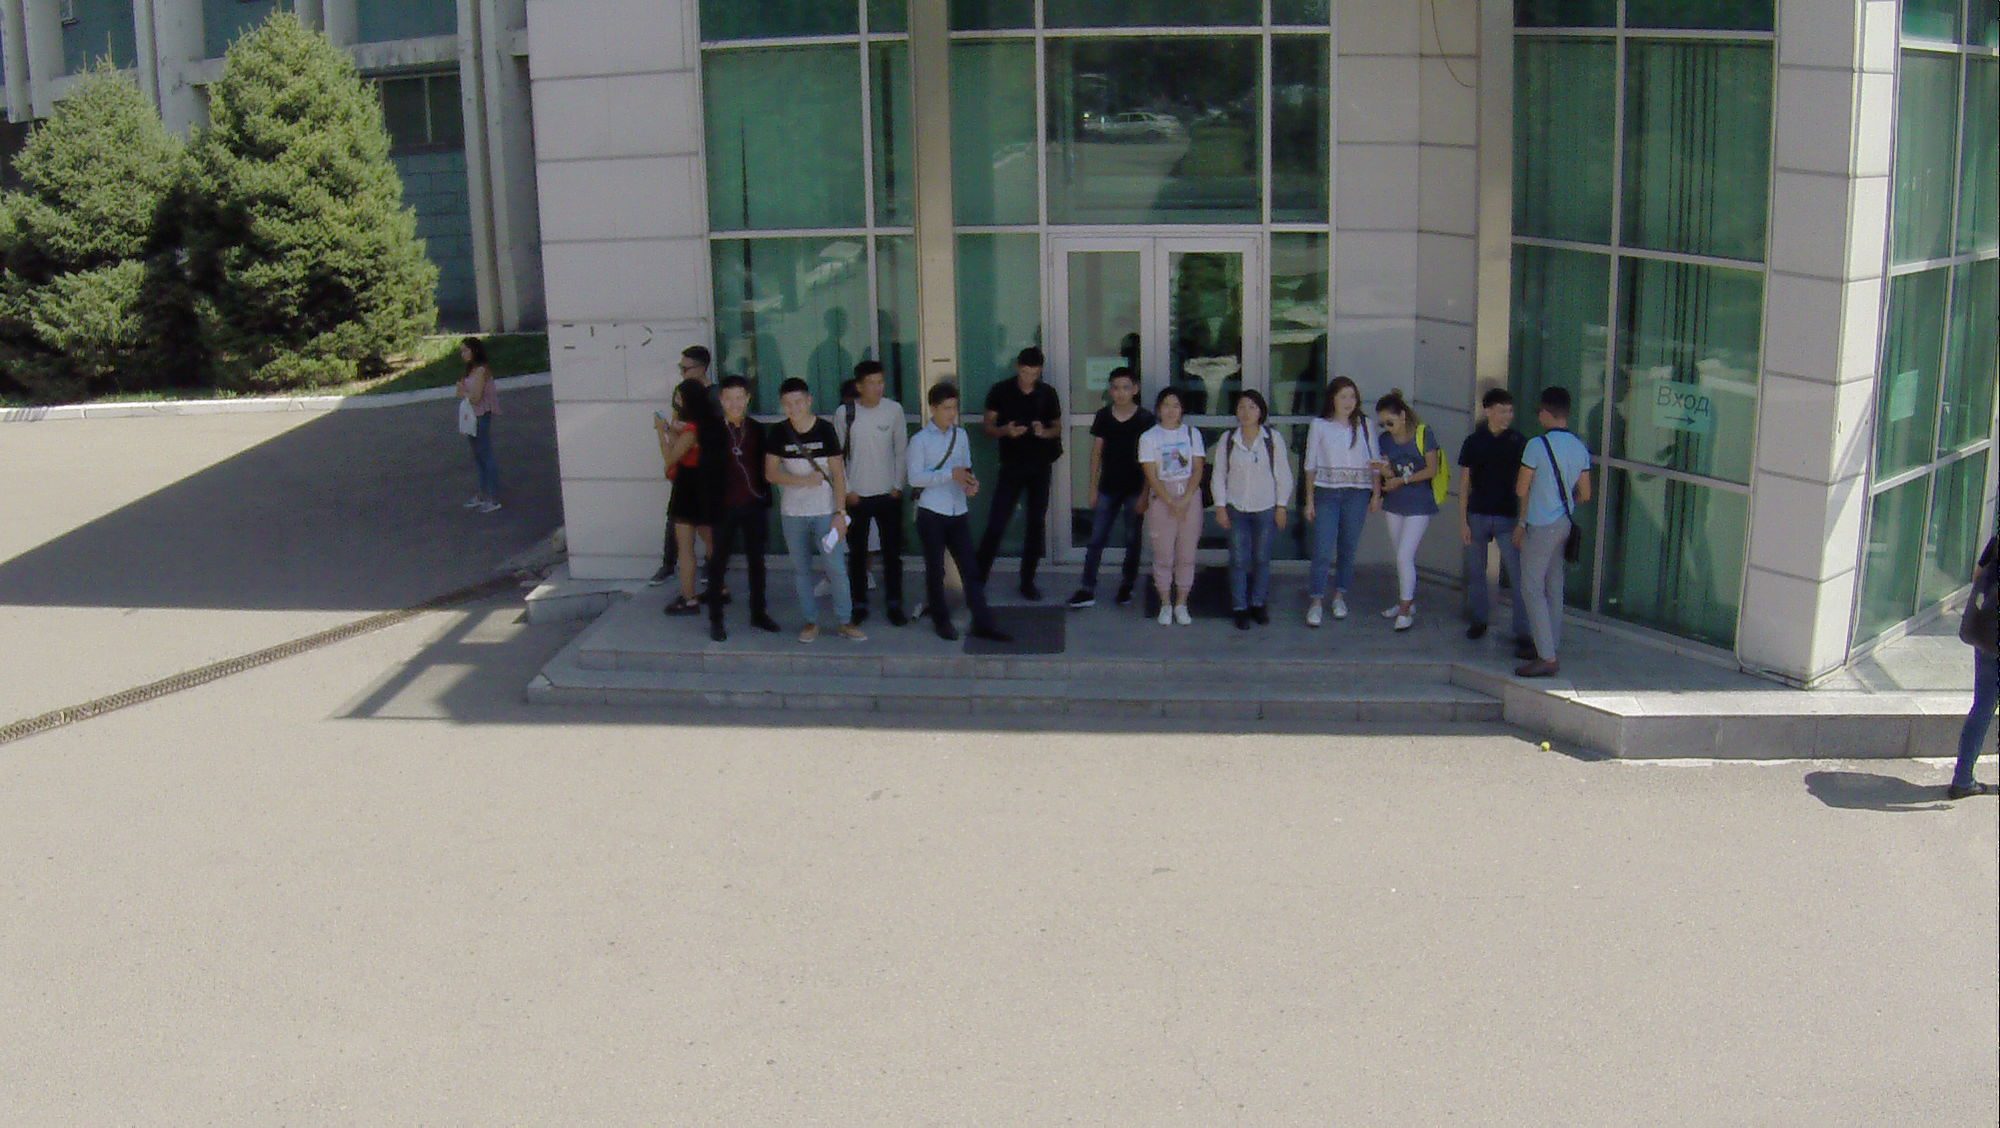person: (1435, 374, 1539, 672), (1520, 358, 1605, 678), (978, 328, 1066, 608), (1122, 372, 1212, 641), (776, 366, 860, 643), (1299, 370, 1382, 637), (918, 372, 993, 655), (845, 349, 920, 630), (1366, 378, 1449, 630), (1199, 374, 1272, 628), (437, 328, 518, 522), (716, 368, 770, 645), (651, 383, 710, 614), (1087, 358, 1135, 616), (678, 343, 716, 387)
